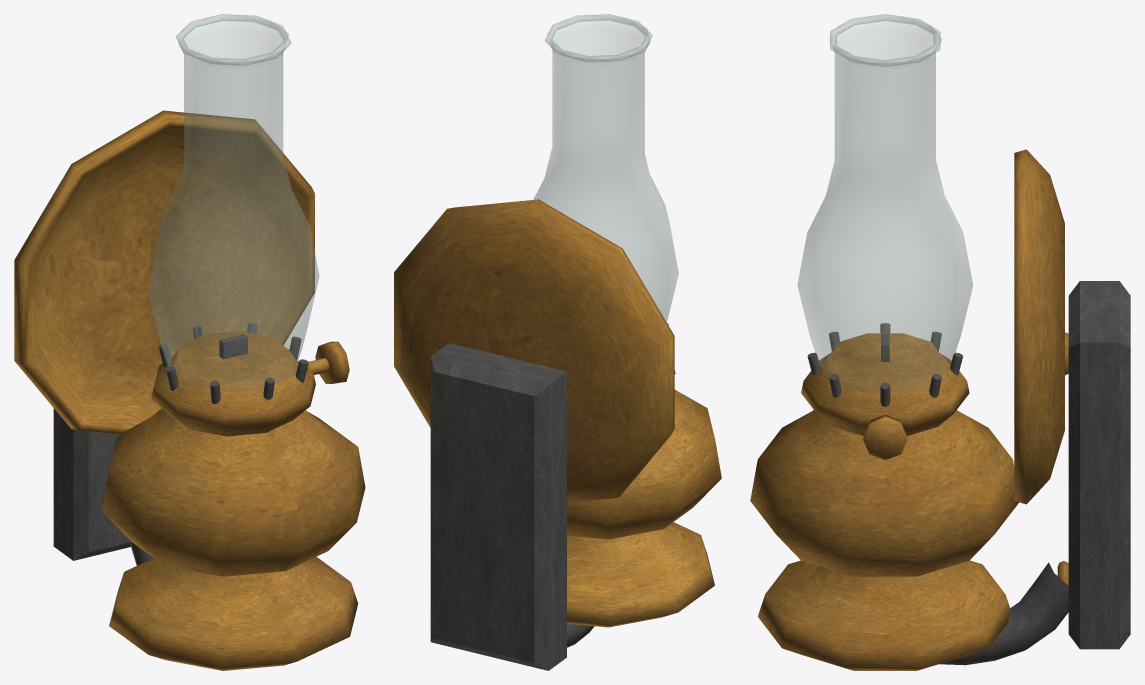
Rendered from city1880-reflector-sconce-unlit.gltf.
3 renders of one model, left to right at view 1: azimuth 30°, elevation 25°; view 2: azimuth 150°, elevation 25°; view 3: azimuth 270°, elevation 25°, orthographic. The views are drawn at different scales.
Parts seen in each view (by area): view 1: Kerosene wall lamp with reflector · unlit; view 2: Kerosene wall lamp with reflector · unlit; view 3: Kerosene wall lamp with reflector · unlit.
Part boxes in pixels (bbox=[...]): Kerosene wall lamp with reflector · unlit: bbox=[14, 14, 365, 670]; Kerosene wall lamp with reflector · unlit: bbox=[394, 14, 721, 670]; Kerosene wall lamp with reflector · unlit: bbox=[750, 14, 1130, 670].
Bounding box in the file's own units: 0.2777 × 0.5585 × 0.307.
2 materials, 1 textured.
